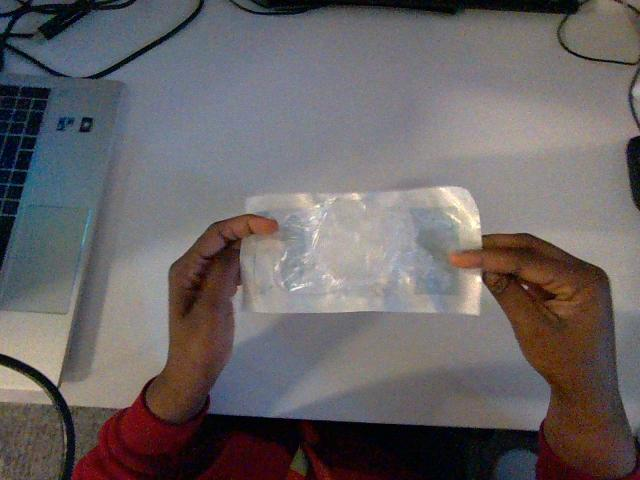gallipot: (241, 187, 481, 314)
